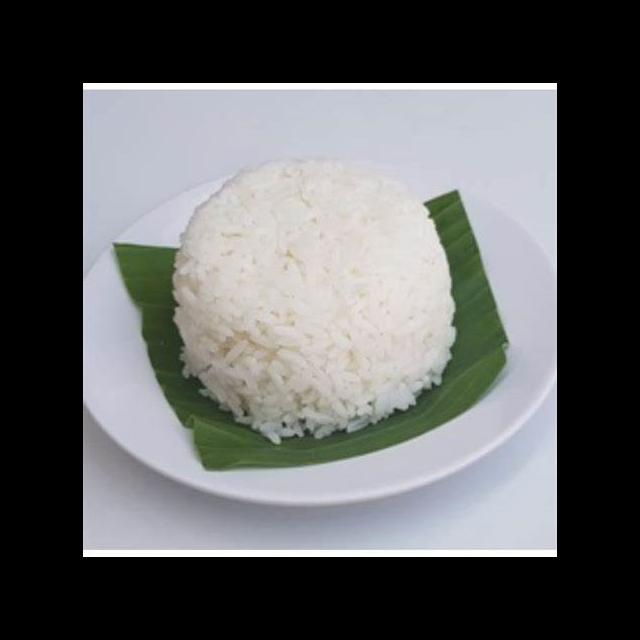food_waste: (154, 144, 480, 438)
